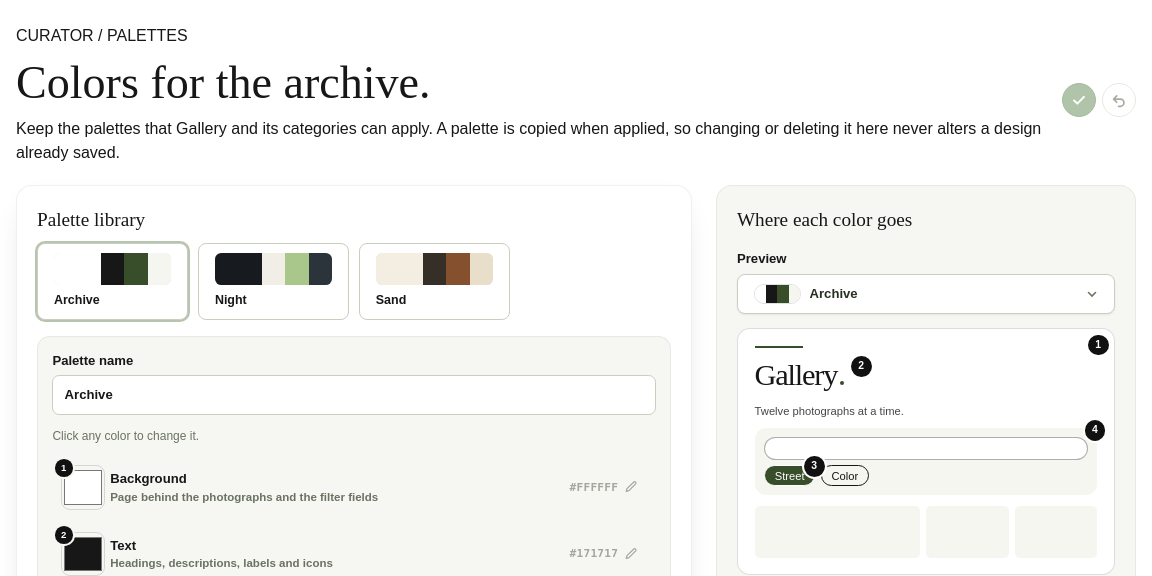
Palette manager › explains where each color goes and saves only the palettes
Click the button "Night": (274,281) [198,243,349,320]
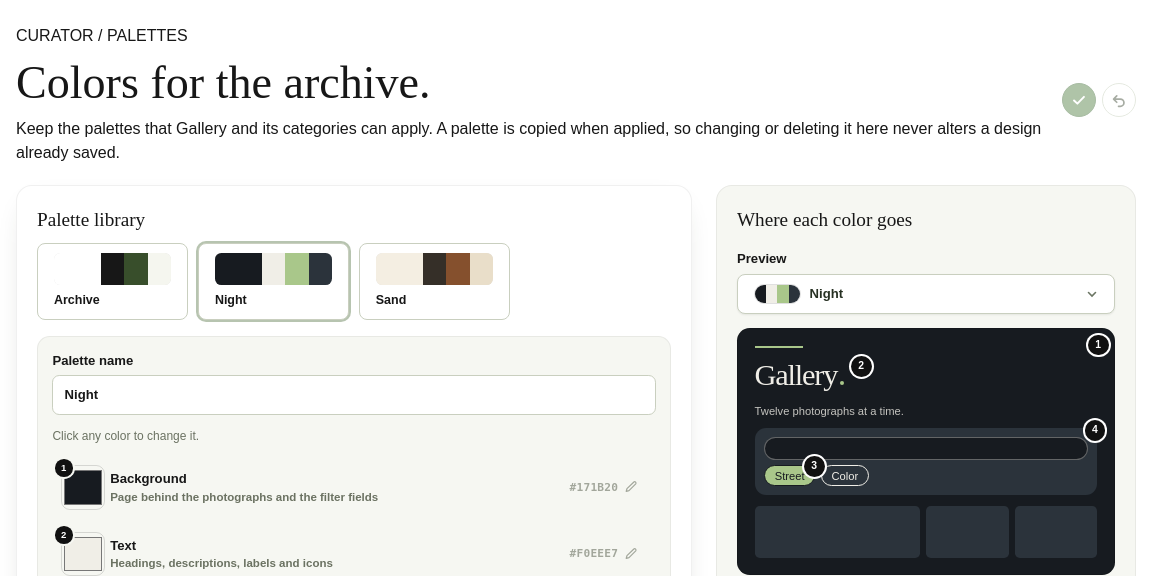
Replace the text in the field labelled "Palette name" with "Midnight": (354,395) [52,376,656,415]
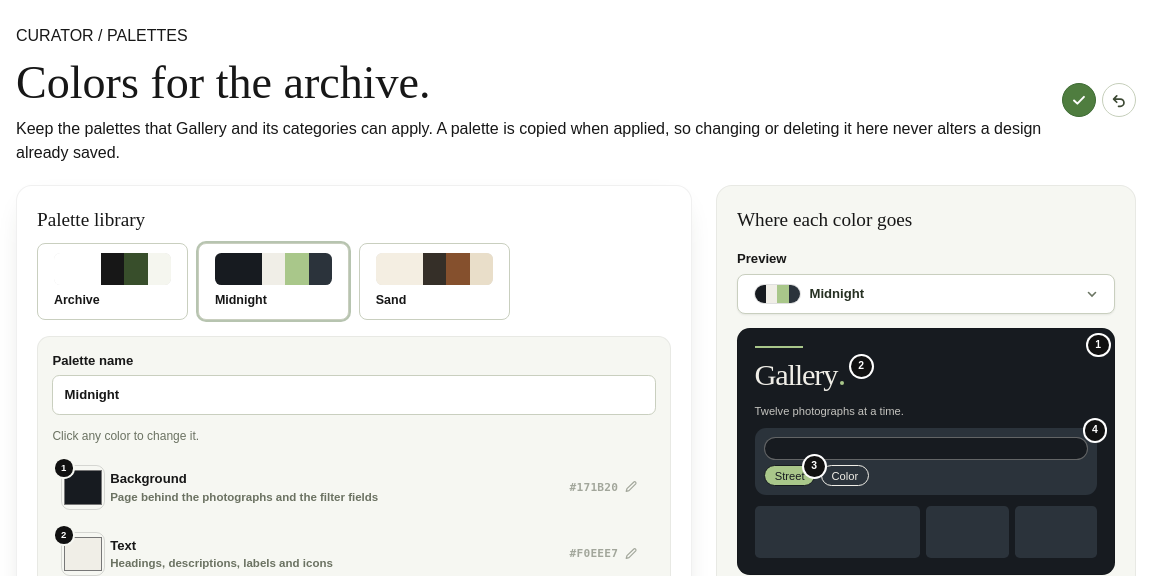
Click the button named "Save palettes": (1079,100) [1062,83,1096,117]
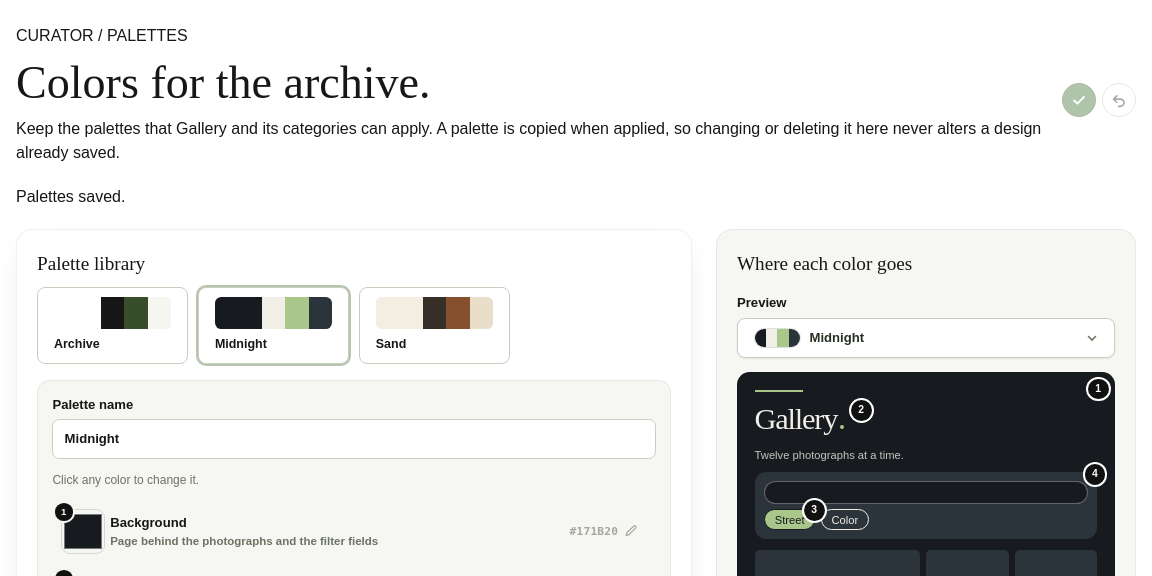
Expected: the message reads "Palettes saved.", [16,188,125,205]
